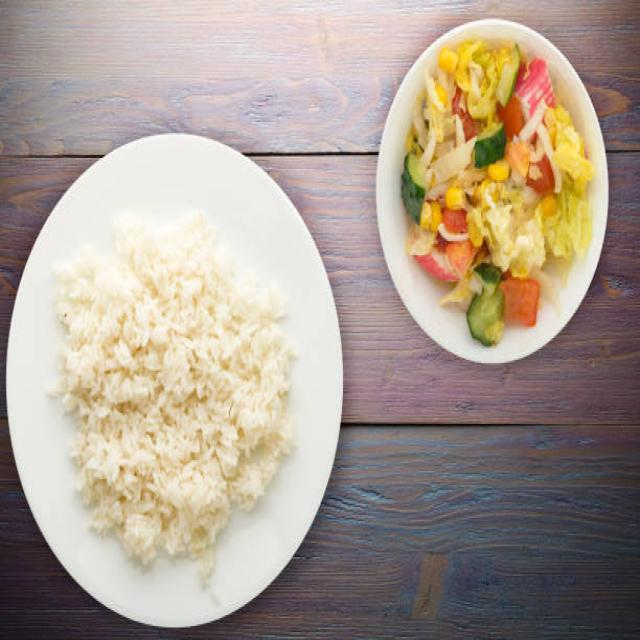Rice: (45, 208, 300, 593)
